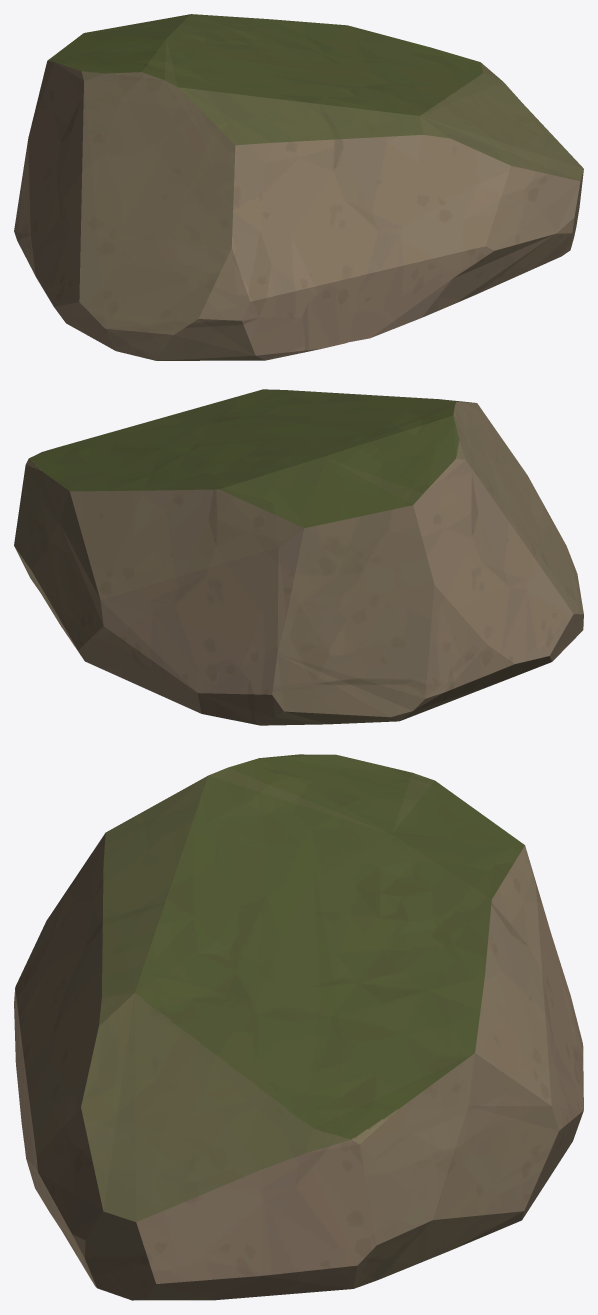
File: SM_Env_Rock_01.glb
The picture shows the model from 3 angles, top to bottom: view 1: azimuth 30°, elevation 25°; view 2: azimuth 150°, elevation 25°; view 3: azimuth 270°, elevation 25°; orthographic projection. The views are drawn at different scales.
Visible parts, largest first — view 1: SM_Env_Rock_01; view 2: SM_Env_Rock_01; view 3: SM_Env_Rock_01.
Boxes of the visible parts, x1=… form: SM_Env_Rock_01: x1=14, y1=14, x2=583, y2=360; SM_Env_Rock_01: x1=14, y1=389, x2=583, y2=725; SM_Env_Rock_01: x1=14, y1=754, x2=583, y2=1300.
Bounding box in the file's own units: 2.26 × 1.04 × 1.73.
Materials: 1 (1 with a texture image).
